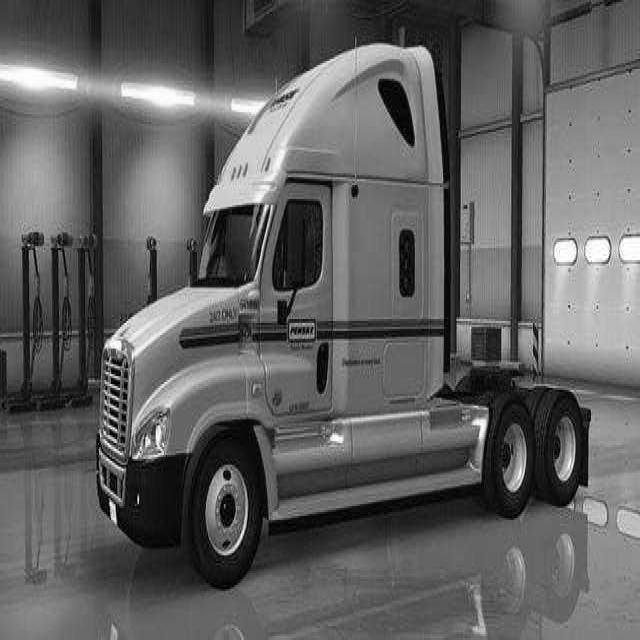Truck: (95, 44, 589, 587)
